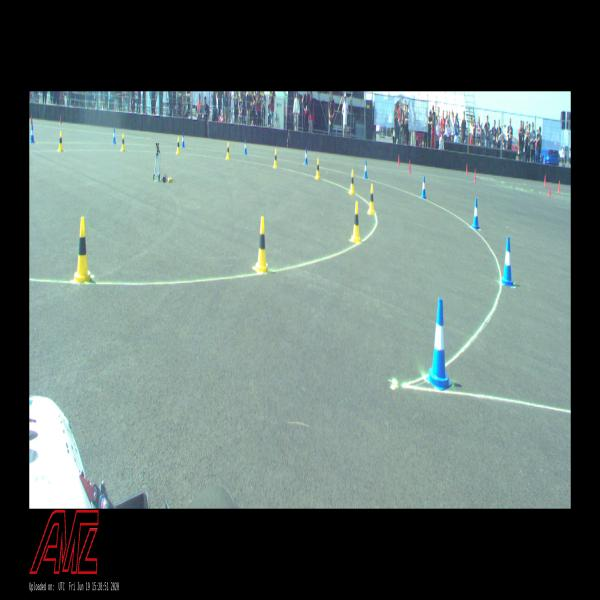blue_cone: (426, 299, 452, 390), (502, 238, 513, 286), (472, 199, 479, 229), (420, 176, 426, 199), (30, 124, 35, 144), (363, 160, 368, 178), (304, 149, 308, 164), (112, 128, 116, 143), (181, 133, 185, 147), (244, 140, 247, 154)
unknown_cone: (408, 159, 411, 174), (473, 169, 476, 183), (548, 182, 551, 196), (397, 154, 400, 166), (558, 181, 561, 193), (30, 115, 33, 125), (59, 114, 62, 124), (465, 164, 468, 174), (544, 175, 546, 186)
yellow_cone: (73, 219, 92, 283), (254, 217, 268, 273), (350, 201, 361, 242), (368, 184, 375, 214), (57, 132, 64, 152), (120, 133, 126, 151), (315, 158, 320, 179), (273, 148, 278, 168), (350, 169, 354, 194), (226, 142, 230, 160), (176, 137, 180, 155)
